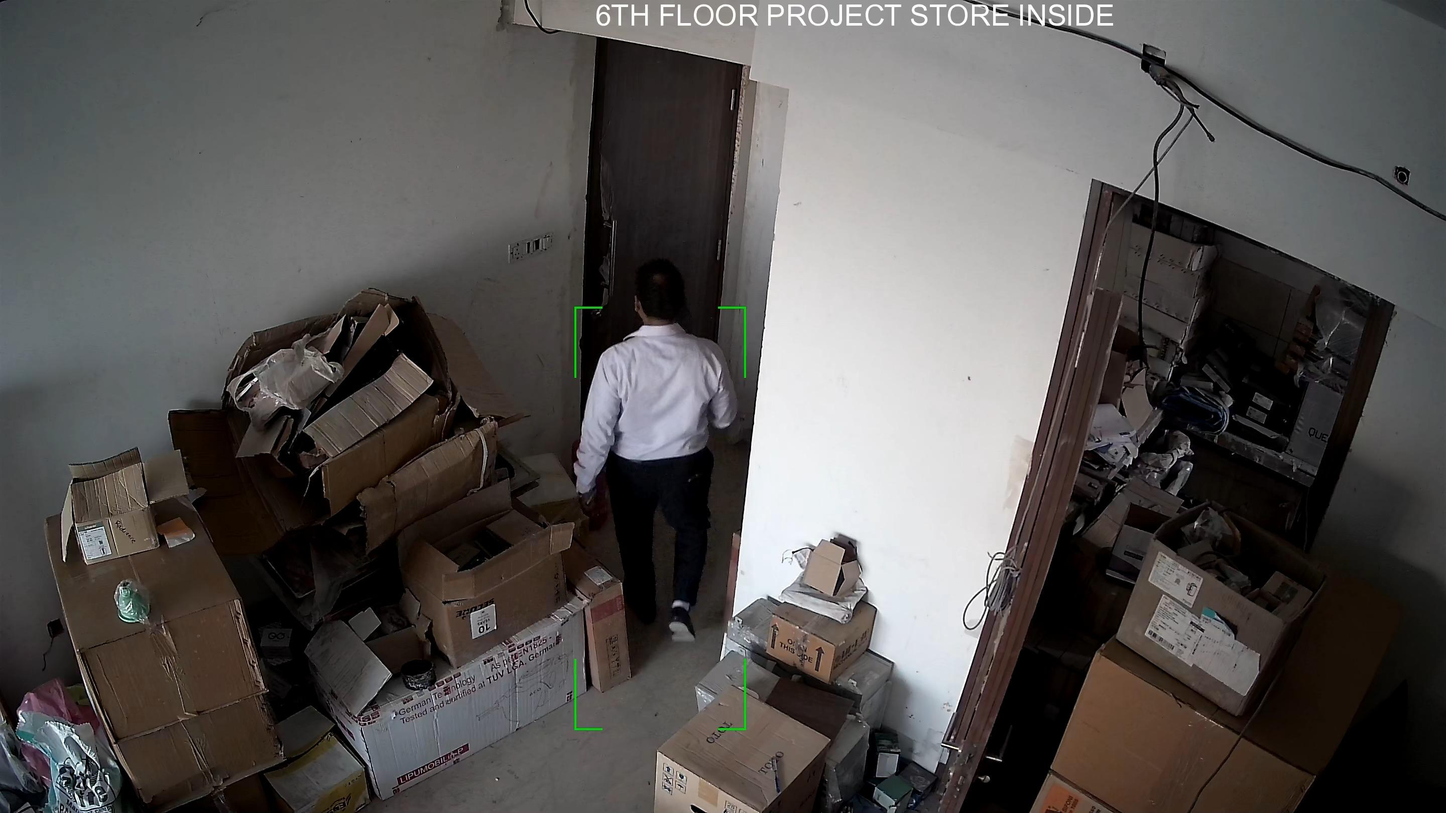Door-Close: (565, 33, 756, 467)
